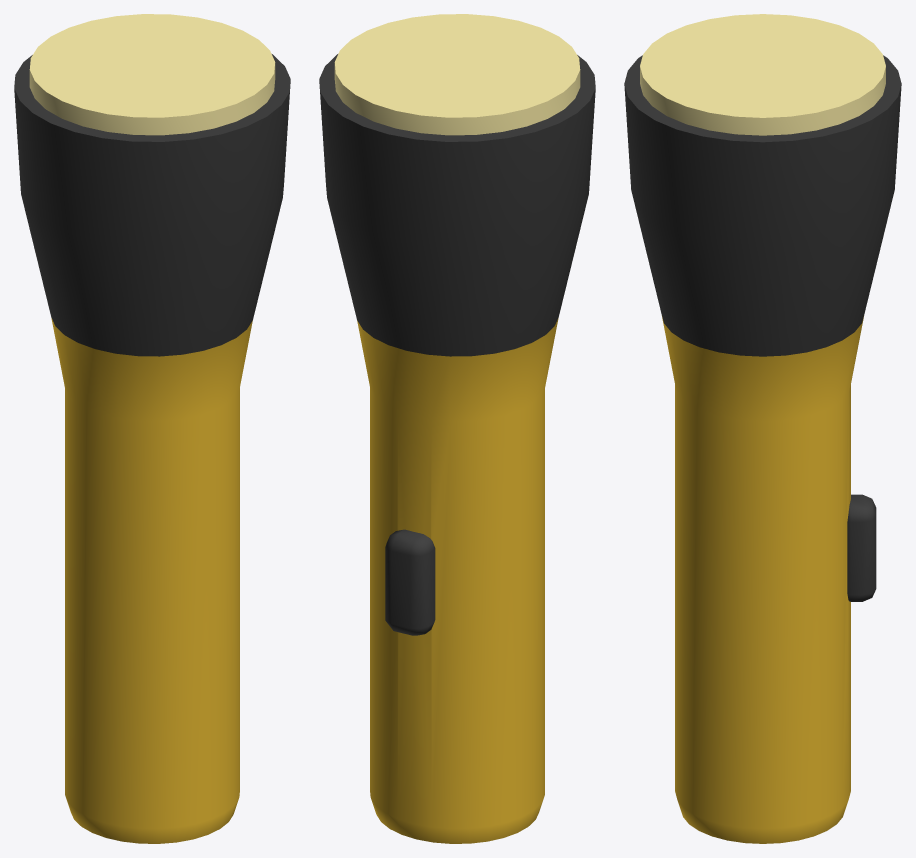
The model's file is flashlight.glb.
3 renders of one model, left to right at view 1: azimuth 30°, elevation 25°; view 2: azimuth 150°, elevation 25°; view 3: azimuth 270°, elevation 25°, orthographic.
Visible parts, largest first — view 1: flashlight; view 2: flashlight; view 3: flashlight.
Boxes of the visible parts, x1,y1,x2,y2 form: flashlight: (14,14,290,843); flashlight: (319,14,595,843); flashlight: (624,14,901,843).
Bounding box in the file's own units: 0.0304 × 0.09 × 0.0304.
